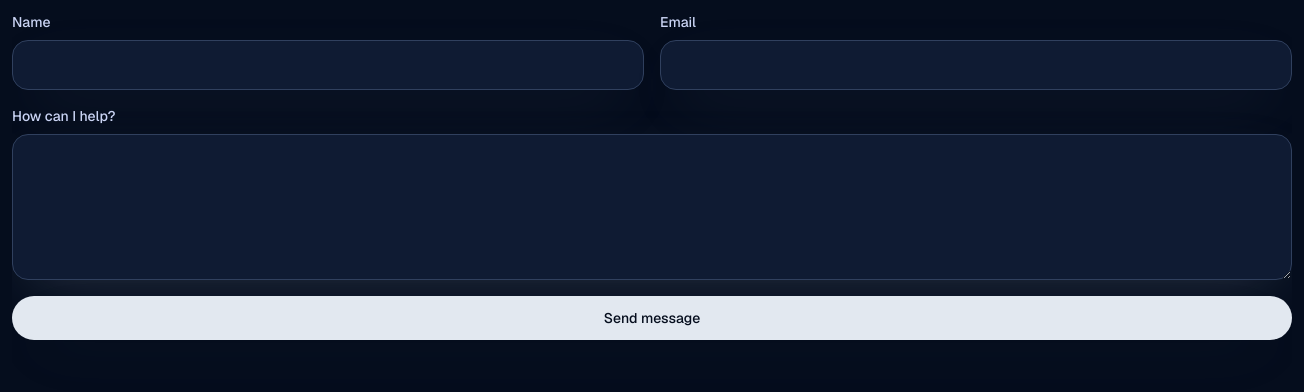
Scenario: ContactForm › submits form with valid data
Type "John Doe" into the field labelled "Name" at (328, 65), box [12,40,644,90]
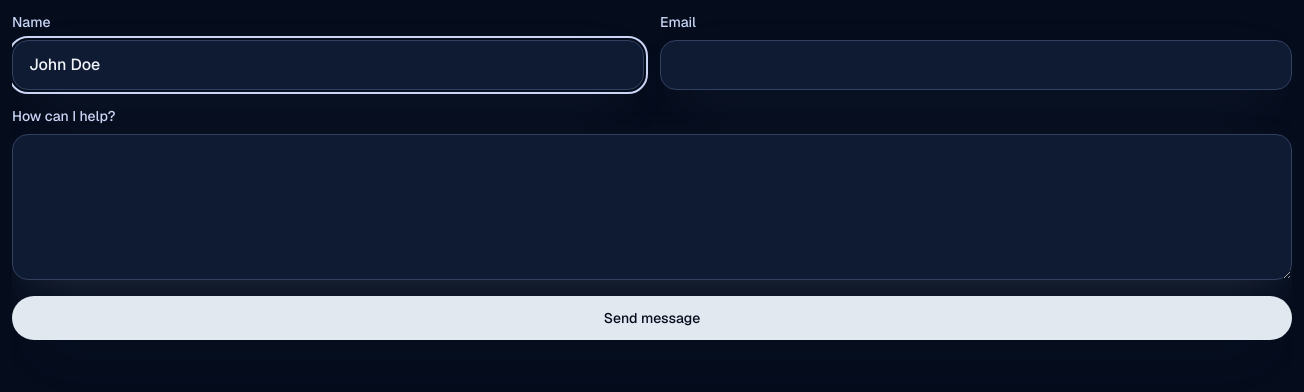
Type "john@example.com" into the field labelled "Email" at (976, 65), box [660,40,1292,90]
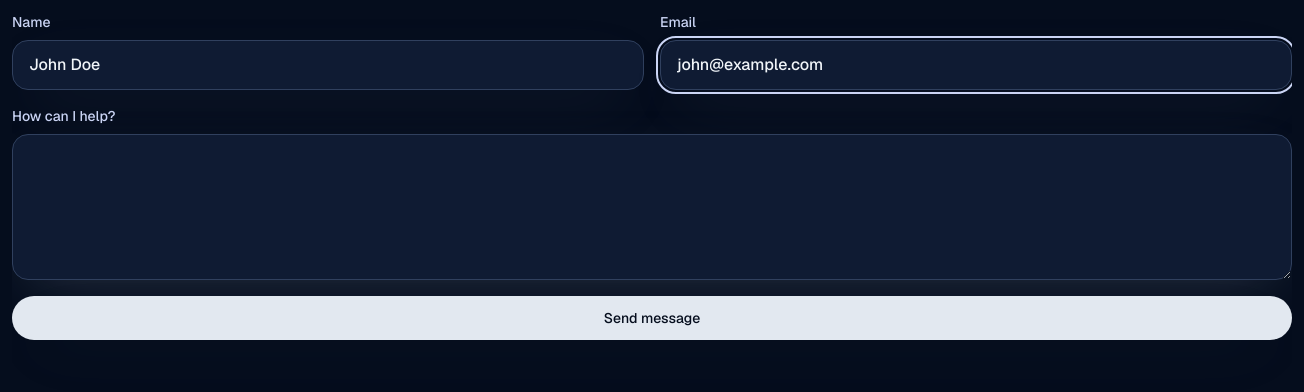
Type "This is a test message that is long enough." into the text box labelled "How can I help?" at (652, 207), box [12,134,1292,280]
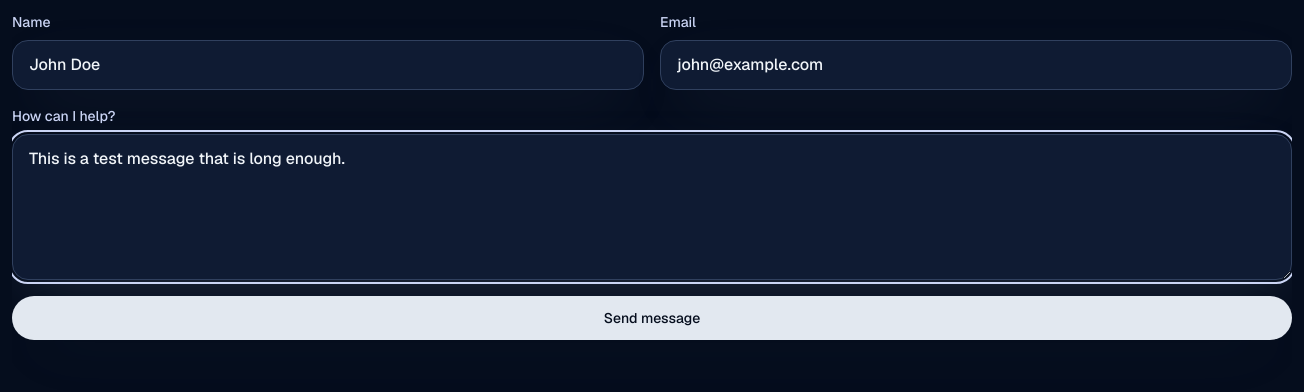
Click the button "Send message" at (652, 318), box [12,296,1292,340]
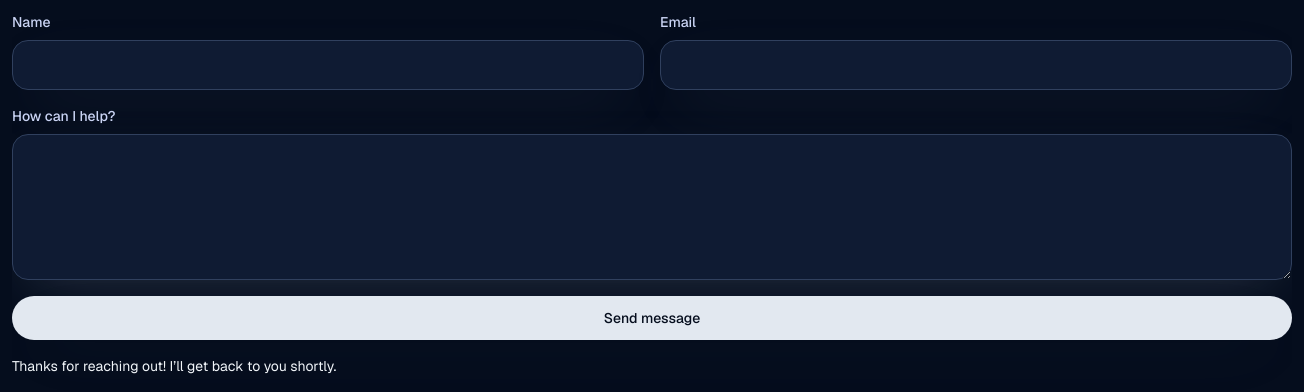
Expected: the text "Thanks for reaching out! I’ll get back to you shortly." is shown, [12,357,336,375]
